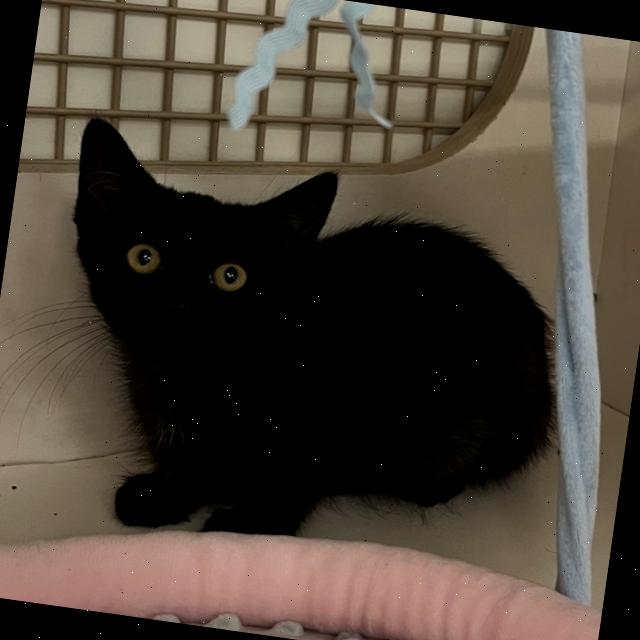bombay_cat: (37, 108, 355, 416)
